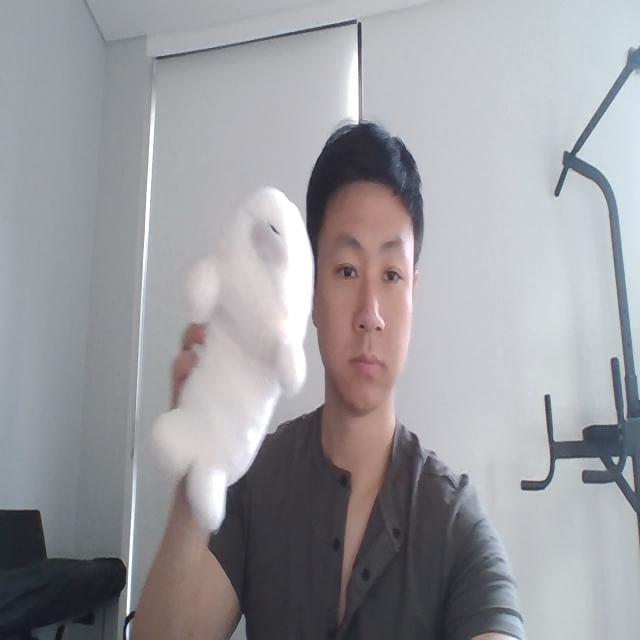seal_bb: (152, 183, 316, 530)
